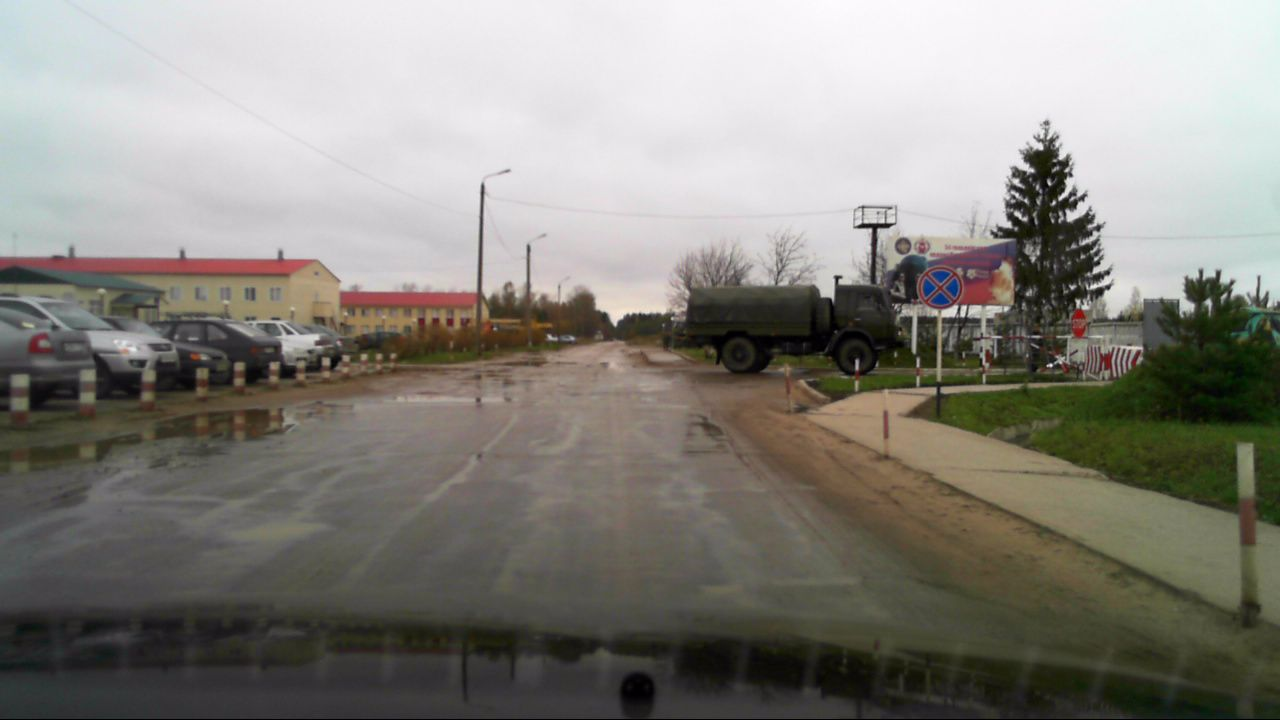No Parking: (917, 267, 963, 310)
